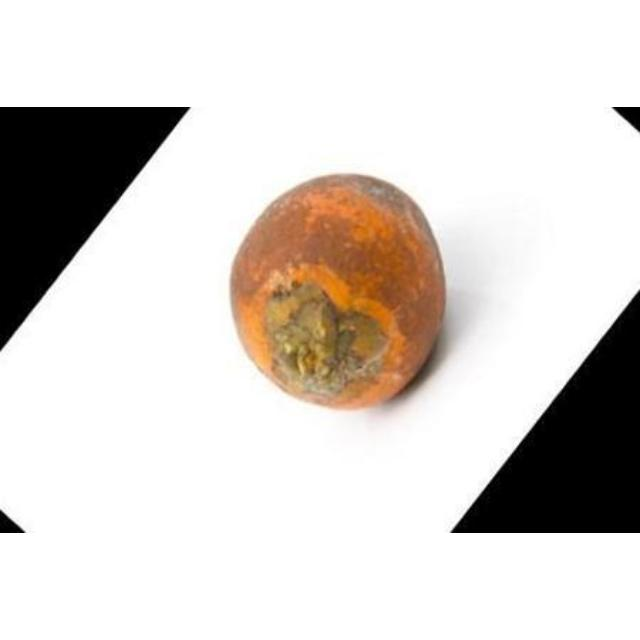good: (229, 174, 448, 413)
